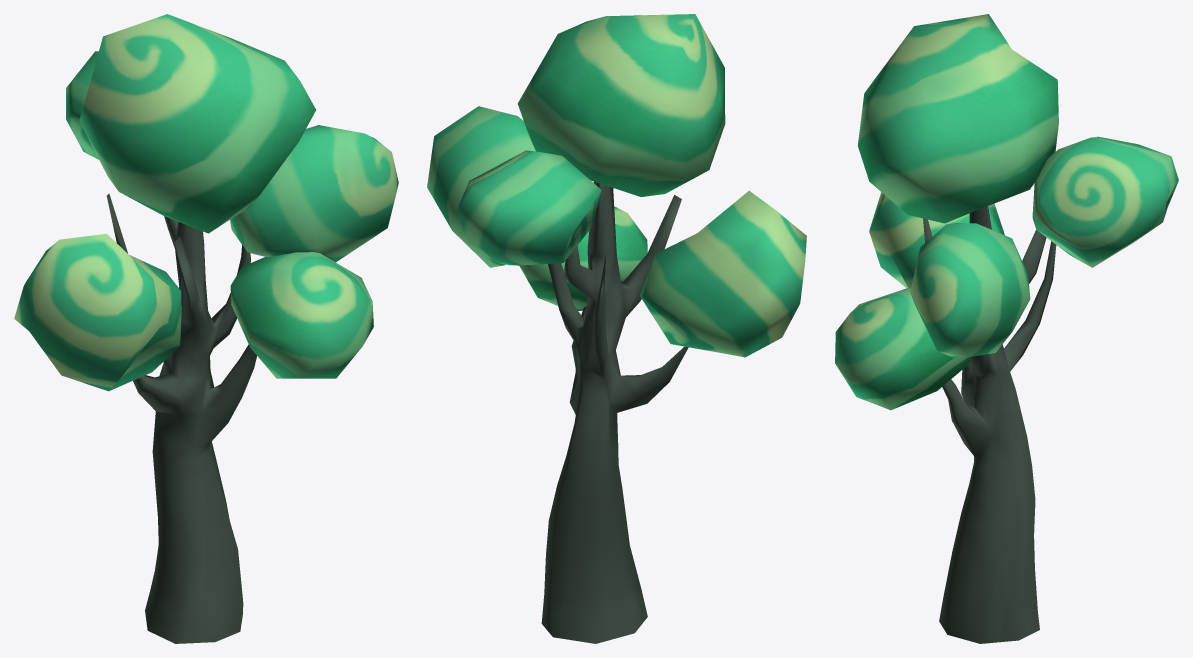
File: tree_G.fbx
3 views of the same model, side by side, from view 1: azimuth 30°, elevation 25°; view 2: azimuth 150°, elevation 25°; view 3: azimuth 270°, elevation 25° (orthographic). The views are drawn at different scales.
Visible parts, largest first — view 1: treeA; view 2: treeA; view 3: treeA.
Part boxes in pixels (<box>): treeA: <box>14,14,398,643</box>; treeA: <box>427,14,806,643</box>; treeA: <box>835,14,1178,643</box>.
Size of the model in its own units: 321 by 509 by 273.
